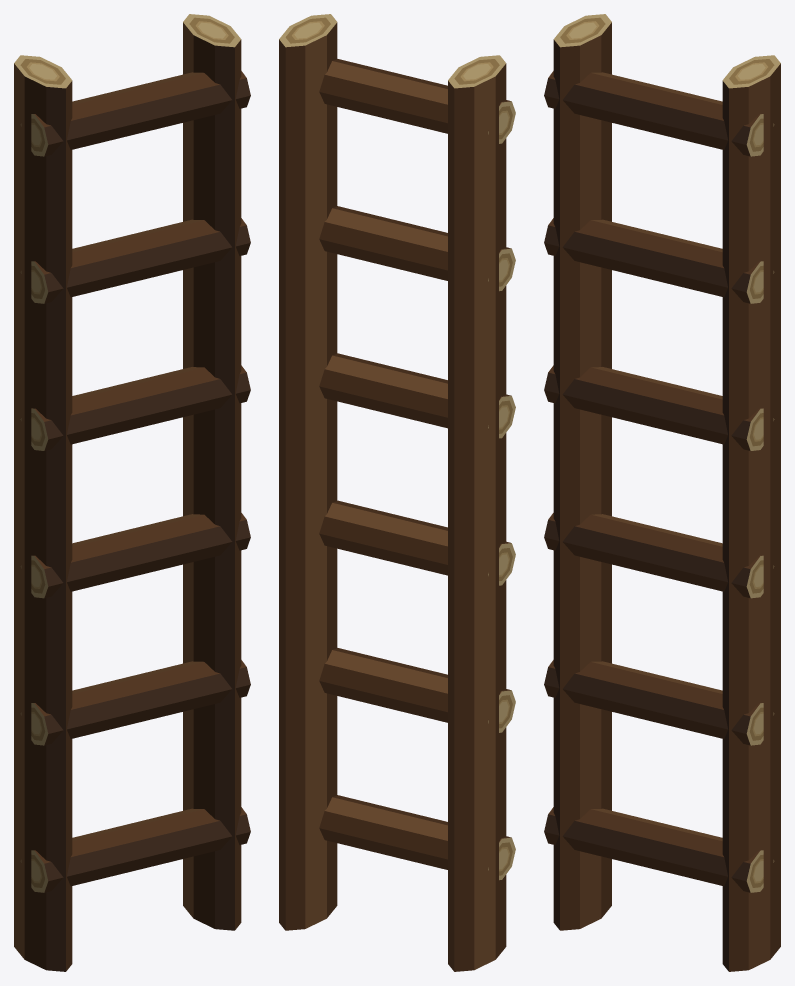
The model's file is crude_ladder_3.glb.
3 renders of one model, left to right at view 1: azimuth 30°, elevation 25°; view 2: azimuth 150°, elevation 25°; view 3: azimuth 330°, elevation 25°, orthographic.
Parts seen in each view (by area): view 1: crude_ladder_3; view 2: crude_ladder_3; view 3: crude_ladder_3.
Part boxes in pixels (<box>): crude_ladder_3: <box>14,14,250,971</box>; crude_ladder_3: <box>279,14,515,971</box>; crude_ladder_3: <box>544,14,780,971</box>.
Bounding box in the file's own units: 0.732 × 3 × 0.28.
